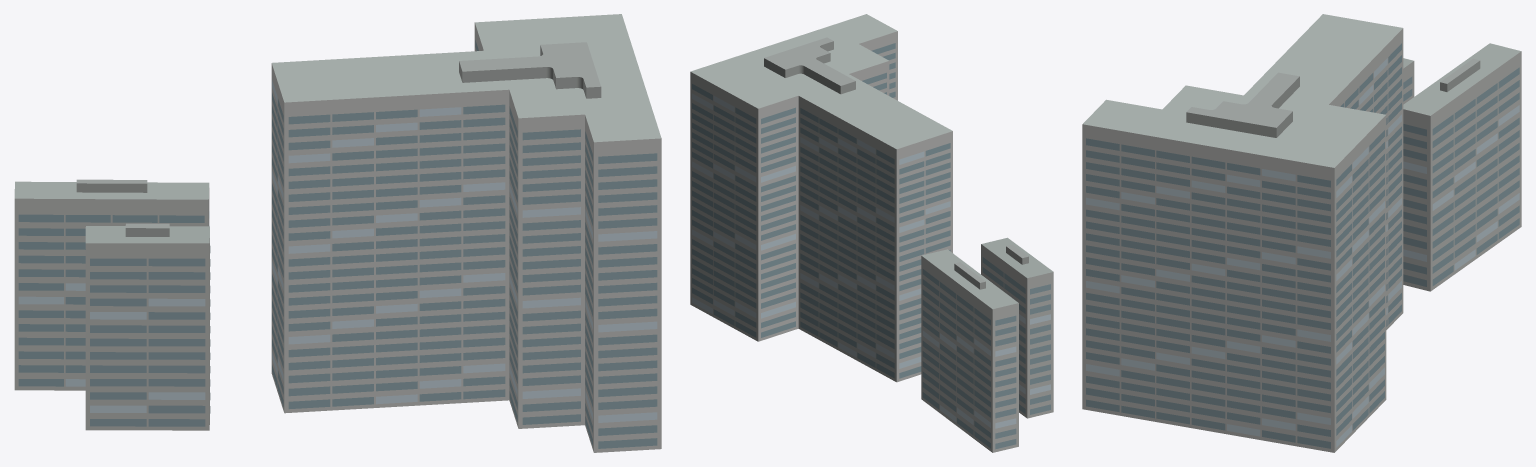
The model's file is apt-a12271402.glb.
3 renders of one model, left to right at view 1: azimuth 30°, elevation 25°; view 2: azimuth 150°, elevation 25°; view 3: azimuth 270°, elevation 25°, orthographic. The views are drawn at different scales.
Parts seen in each view (by area): view 1: apt-a12271402; view 2: apt-a12271402; view 3: apt-a12271402.
Part boxes in pixels (<box>): apt-a12271402: <box>14,14,661,452</box>; apt-a12271402: <box>690,14,1053,452</box>; apt-a12271402: <box>1082,14,1521,452</box>.
Bounding box in the file's own units: 117 × 69 × 93.
